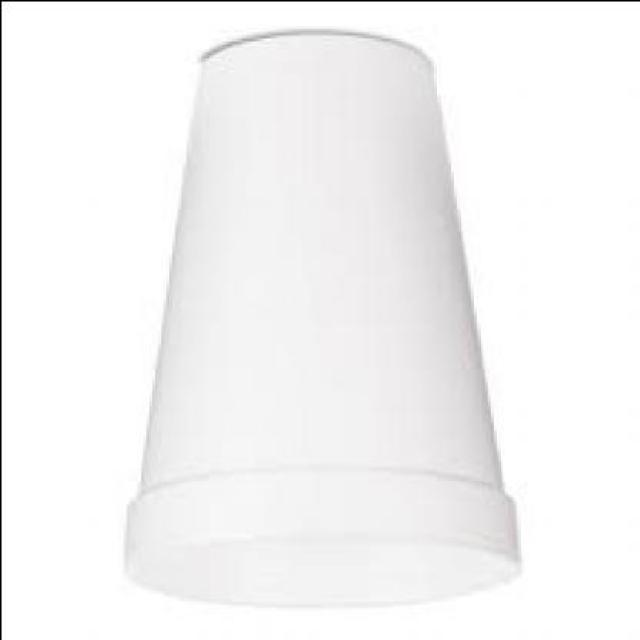PAPER: (128, 31, 521, 609)
